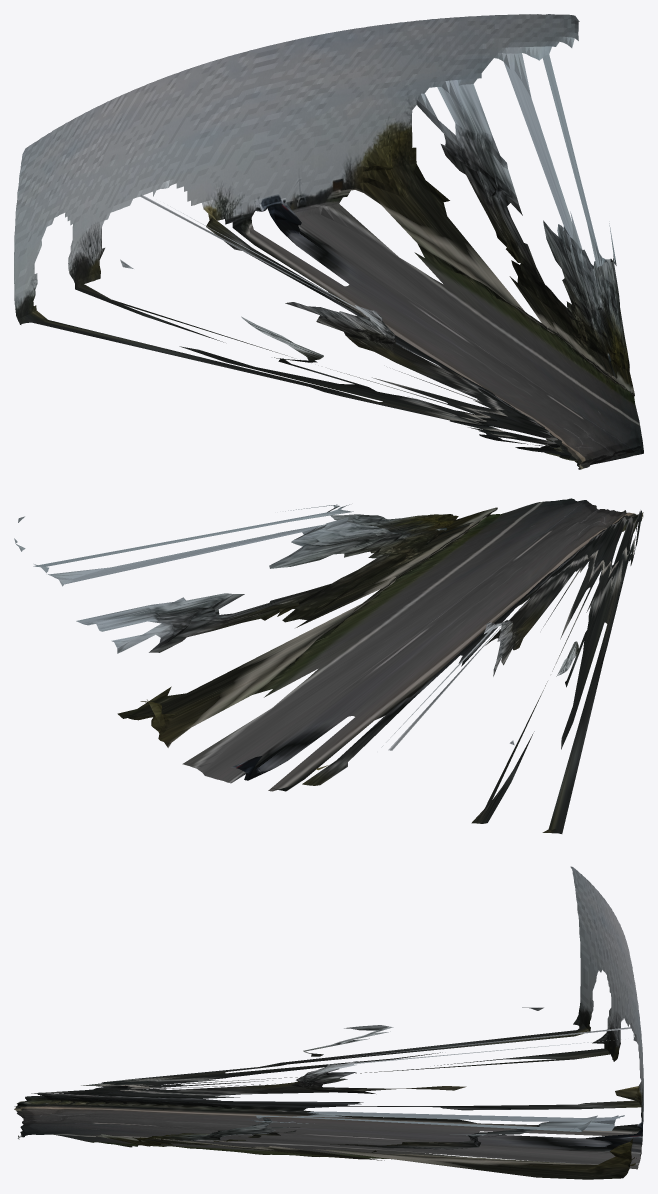
3 renders of one model, top to bottom at view 1: azimuth 30°, elevation 25°; view 2: azimuth 150°, elevation 25°; view 3: azimuth 270°, elevation 25°, orthographic. The views are drawn at different scales.
Visible parts, largest first — view 1: defaultobject; view 2: defaultobject; view 3: defaultobject.
Boxes of the visible parts, x1,y1,x2,y2 form: defaultobject: (14, 14, 643, 469); defaultobject: (14, 498, 643, 833); defaultobject: (14, 866, 643, 1179).
Size of the model in its own units: 40.88 by 13.23 by 44.54.
1 material, 1 textured.
